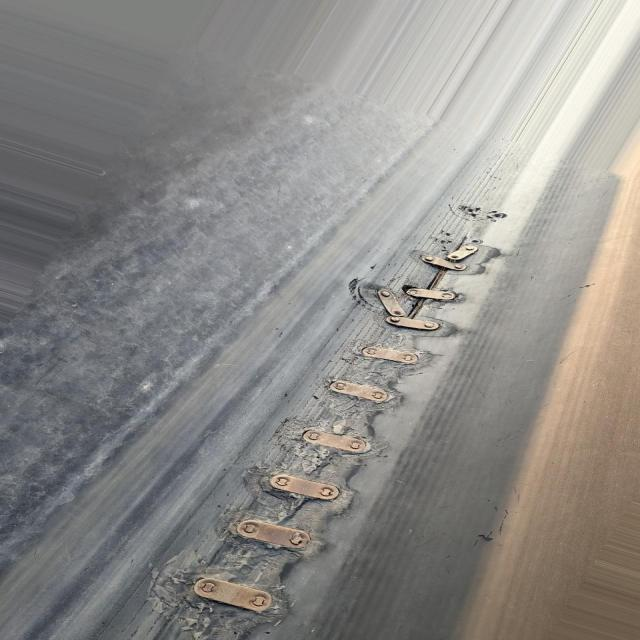patch work: (135, 193, 521, 640)
